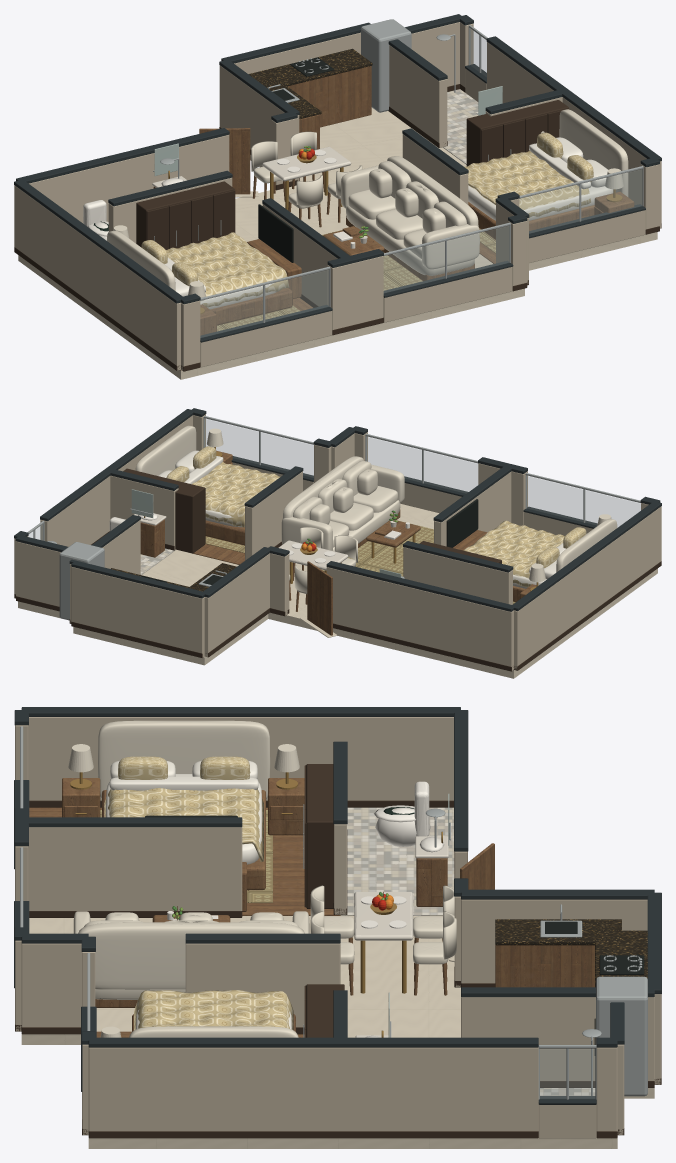
The model's file is aristo-02.glb.
3 renders of one model, top to bottom at view 1: azimuth 30°, elevation 25°; view 2: azimuth 150°, elevation 25°; view 3: azimuth 270°, elevation 25°, orthographic. The views are drawn at different scales.
Visible parts, largest first — view 1: Apartment foundation, Ivory masonry.004, Ivory masonry.003, Cutaway window glazing.001, Soft jacquard duvet with folds.003, Cutaway window glazing, Cutaway window glazing.002, Soft jacquard duvet with folds.004, Ivory masonry.015, Ivory masonry.006, Window sill.001, Ivory masonry.011 (+71 smaller); view 2: Ivory masonry.003, Ivory masonry.004, Ivory masonry, Apartment foundation, Ivory masonry.001, Ivory masonry.017, Ivory masonry.011, Cutaway window glazing, Cutaway window glazing.001, Cutaway window glazing.002, Soft jacquard duvet with folds.004, Soft jacquard duvet with folds.003 (+51 smaller); view 3: Ivory masonry.011, Ivory masonry.018, Apartment foundation, Ivory masonry.004, Ivory masonry.019, Sofa back.001, Ivory masonry.015, Padded headboard.003, Ivory masonry.001, Soft jacquard duvet with folds.004, Ivory masonry.008, Charcoal wall cut.011 (+48 smaller).
Boxes of the visible parts, <box> form: Apartment foundation: <box>18,107,657,379</box>; Ivory masonry.004: <box>14,185,180,370</box>; Ivory masonry.003: <box>29,135,229,223</box>; Cutaway window glazing.001: <box>200,270,328,337</box>; Soft jacquard duvet with folds.003: <box>166,232,288,307</box>; Cutaway window glazing: <box>384,226,509,292</box>; Cutaway window glazing.002: <box>519,169,642,233</box>; Soft jacquard duvet with folds.004: <box>464,150,590,217</box>; Ivory masonry.015: <box>389,45,447,147</box>; Ivory masonry.006: <box>327,256,383,329</box>; Window sill.001: <box>200,311,332,367</box>; Ivory masonry.011: <box>487,42,661,228</box>; Ivory masonry.003: <box>326,567,513,670</box>; Ivory masonry.004: <box>514,506,661,670</box>; Ivory masonry: <box>71,567,204,657</box>; Apartment foundation: <box>18,503,657,678</box>; Ivory masonry.001: <box>204,553,269,657</box>; Ivory masonry.017: <box>403,547,512,604</box>; Ivory masonry.011: <box>40,415,192,546</box>; Cutaway window glazing: <box>366,437,477,493</box>; Cutaway window glazing.001: <box>527,476,640,527</box>; Cutaway window glazing.002: <box>205,419,313,477</box>; Soft jacquard duvet with folds.004: <box>192,462,280,527</box>; Soft jacquard duvet with folds.003: <box>463,520,564,587</box>; Ivory masonry.011: <box>88,1047,538,1131</box>; Ivory masonry.018: <box>28,827,242,910</box>; Apartment foundation: <box>21,916,654,1148</box>; Ivory masonry.004: <box>28,717,453,800</box>; Ivory masonry.019: <box>185,943,340,1027</box>; Sofa back.001: <box>78,922,304,989</box>; Ivory masonry.015: <box>461,997,595,1080</box>; Padded headboard.003: <box>98,720,270,798</box>; Ivory masonry.001: <box>461,899,647,983</box>; Soft jacquard duvet with folds.004: <box>134,990,293,1030</box>; Ivory masonry.008: <box>21,943,82,1027</box>; Charcoal wall cut.011: <box>88,1037,538,1047</box>.
Bounding box in the file's own units: 8.74 × 1.37 × 7.11.
24 materials, 6 textured.
